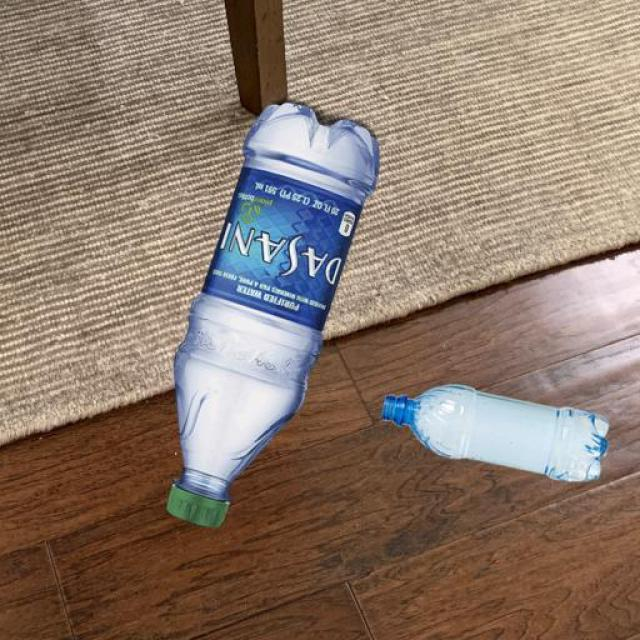bottle: (158, 90, 351, 542), (364, 376, 626, 498)
